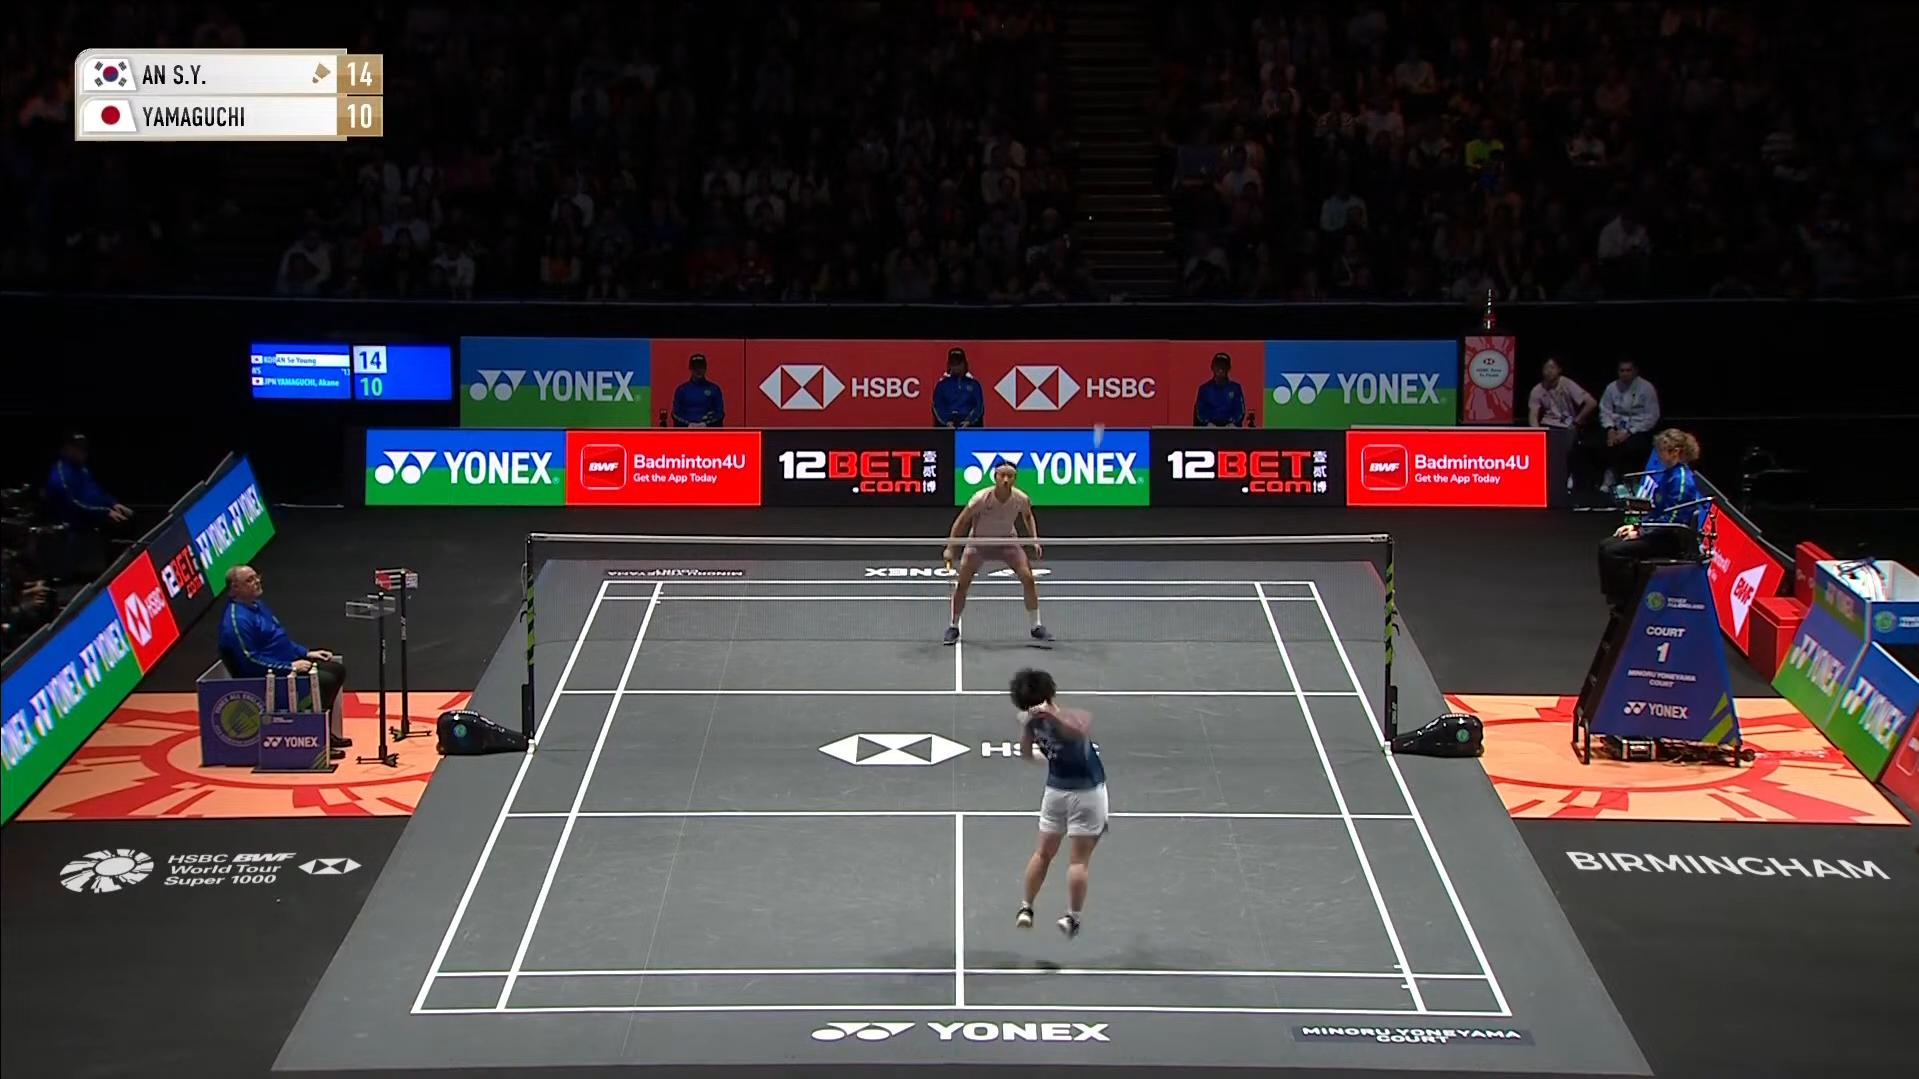shuttle: (1083, 419, 1114, 452)
